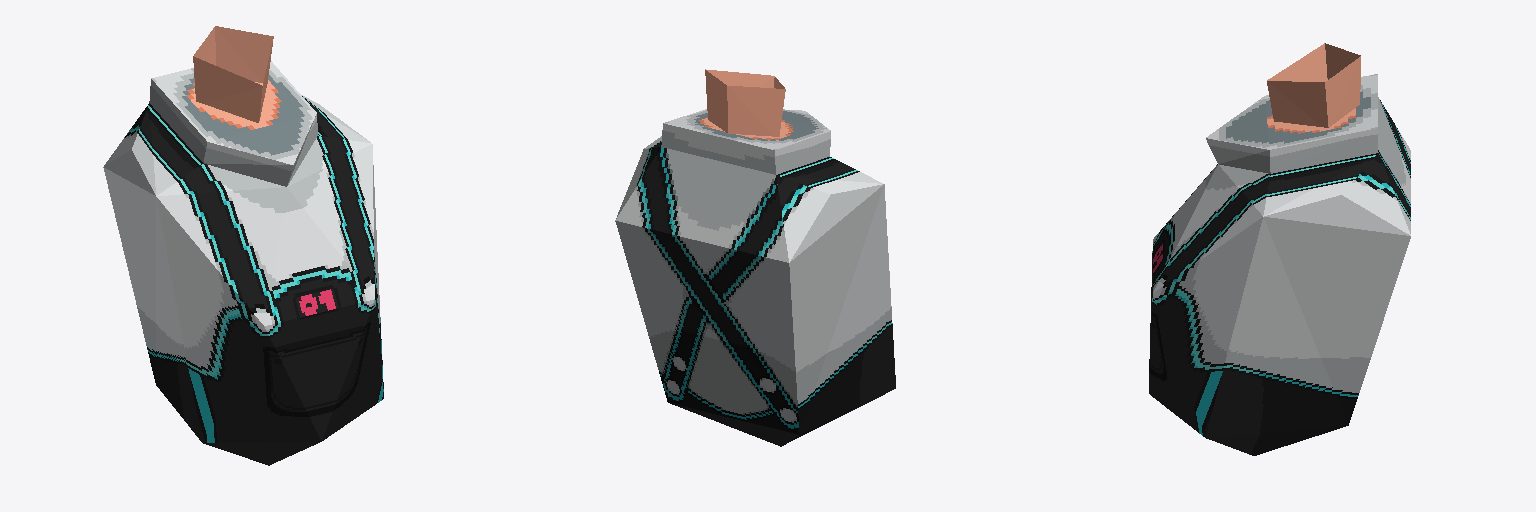
The picture shows the model from 3 angles: view 1: azimuth 30°, elevation 25°; view 2: azimuth 150°, elevation 25°; view 3: azimuth 270°, elevation 25°; orthographic projection.
Parts seen in each view (by area): view 1: 02_BODY; view 2: 02_BODY; view 3: 02_BODY.
Boxes of the visible parts, box(x1,y1,x2,y2) form: 02_BODY: box(103, 26, 383, 465); 02_BODY: box(615, 69, 895, 446); 02_BODY: box(1149, 43, 1410, 455).
Size of the model in its own units: 0.233 by 0.4123 by 0.2453.
Materials: 1 (1 with a texture image).